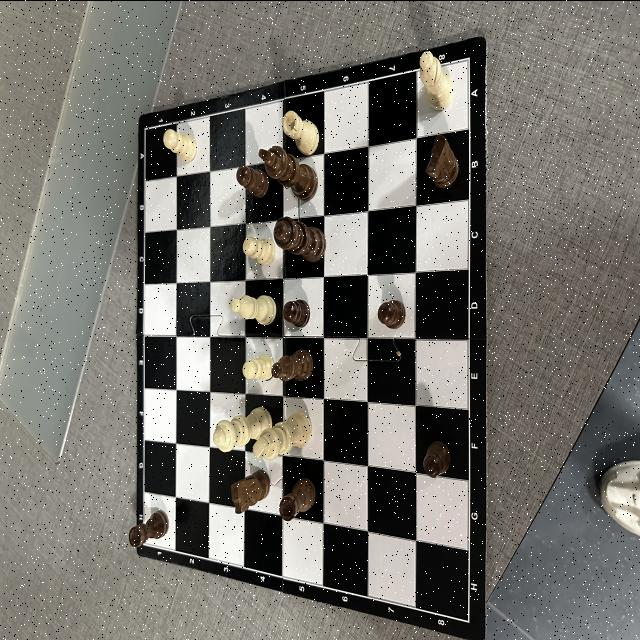Black-Bishop: (272, 348, 314, 381)
Black-King: (258, 145, 318, 200), (252, 410, 312, 460)
Black-Knight: (426, 133, 460, 187), (230, 468, 270, 512)
Black-Pawn: (237, 165, 270, 197), (424, 440, 451, 478), (378, 298, 406, 328), (282, 298, 310, 327)
Black-Queen: (274, 215, 326, 261)
Black-Rook: (279, 476, 316, 520), (128, 508, 168, 546)
White-Bishop: (419, 50, 454, 110), (230, 294, 276, 324)
White-Pawn: (163, 128, 197, 162), (243, 236, 275, 264), (242, 353, 274, 380)
White-Queen: (213, 406, 273, 452)
White-Rook: (282, 110, 320, 156)
